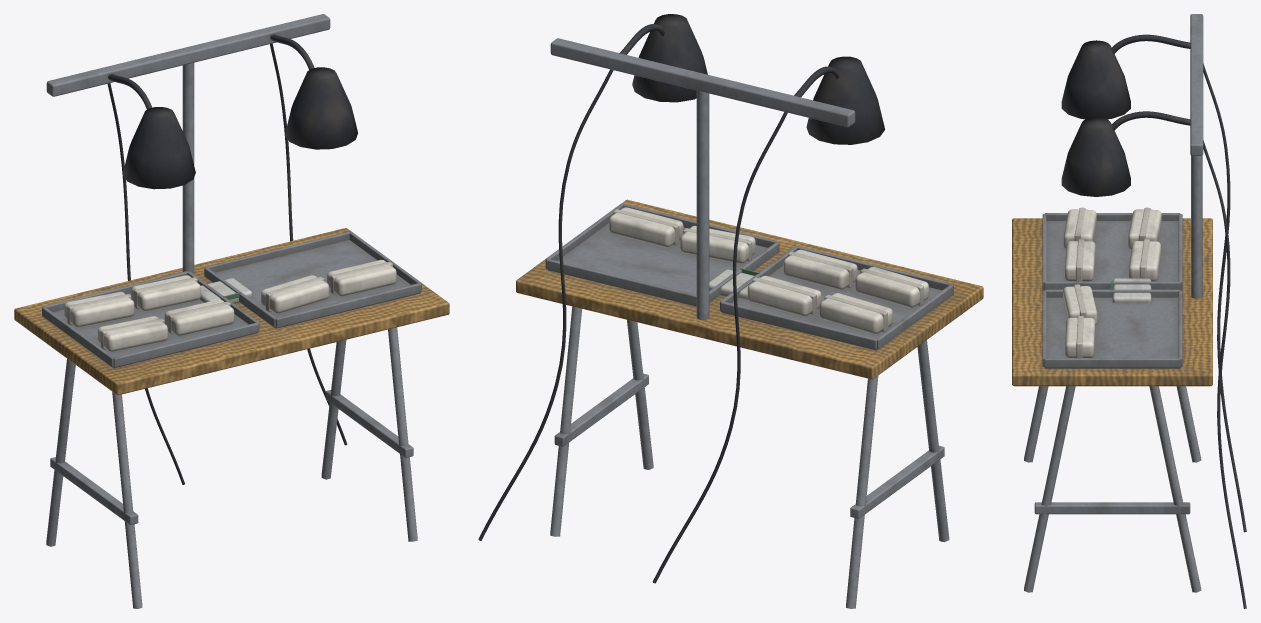
The model's file is skr_susz.glb.
3 views of the same model, side by side, from view 1: azimuth 30°, elevation 25°; view 2: azimuth 150°, elevation 25°; view 3: azimuth 270°, elevation 25° (orthographic). The views are drawn at different scales.
Parts seen in each view (by area): view 1: Susz; view 2: Susz; view 3: Susz.
Part boxes in pixels (x1,y1,x2,y2): Susz: (14, 14, 449, 608); Susz: (478, 14, 983, 608); Susz: (1012, 14, 1246, 608).
Size of the model in its own units: 1.21 by 1.54 by 0.7247.
Materials: 2 (1 with a texture image).
